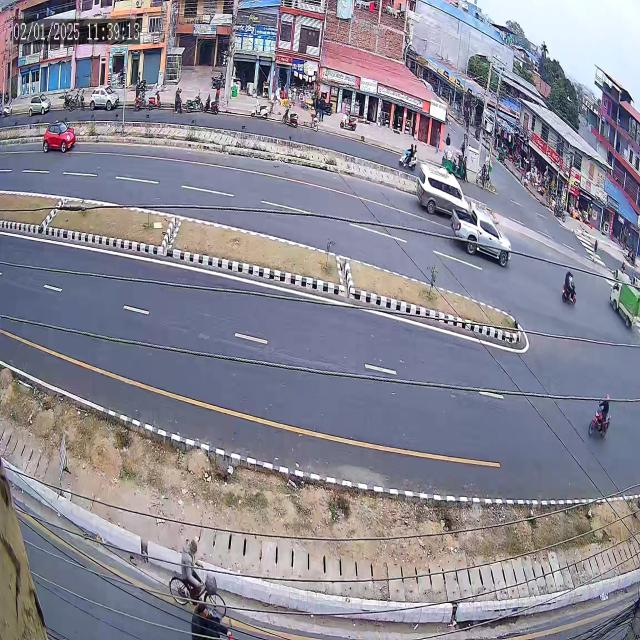car: (447, 204, 517, 274), (34, 117, 80, 163), (87, 78, 120, 119), (22, 93, 52, 116)
cycle: (159, 526, 230, 623)
motorcycle: (586, 380, 618, 444), (556, 256, 581, 309)
